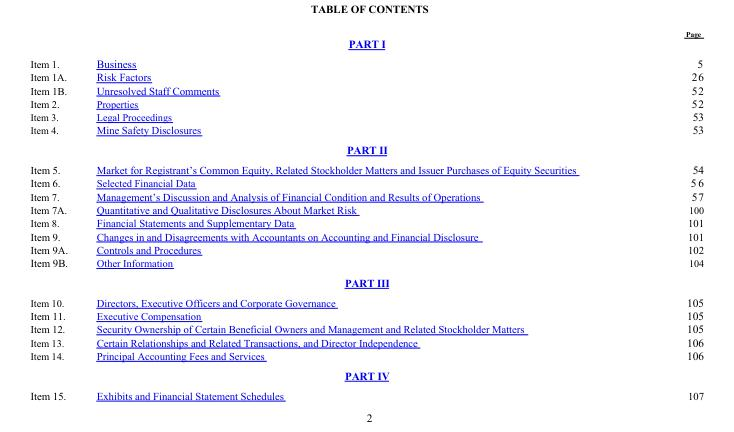table: (29, 29, 703, 401)
table column: (81, 29, 630, 401), (630, 29, 703, 401), (29, 29, 81, 401)
table column header: (29, 29, 703, 37)
table projected row header: (29, 139, 703, 159), (29, 272, 703, 292), (29, 365, 703, 385), (29, 37, 703, 53)
table row: (29, 139, 703, 159), (29, 272, 703, 292), (29, 365, 703, 385), (29, 122, 703, 139), (29, 159, 703, 176), (29, 255, 703, 272), (29, 348, 703, 365), (29, 37, 703, 53), (29, 53, 703, 69), (29, 292, 703, 308), (29, 385, 703, 401), (29, 69, 703, 83), (29, 202, 703, 216), (29, 321, 703, 335), (29, 83, 703, 96), (29, 96, 703, 109), (29, 109, 703, 122), (29, 176, 703, 189), (29, 189, 703, 202), (29, 216, 703, 229), (29, 229, 703, 242), (29, 242, 703, 255), (29, 308, 703, 321), (29, 335, 703, 348), (29, 29, 703, 37)
